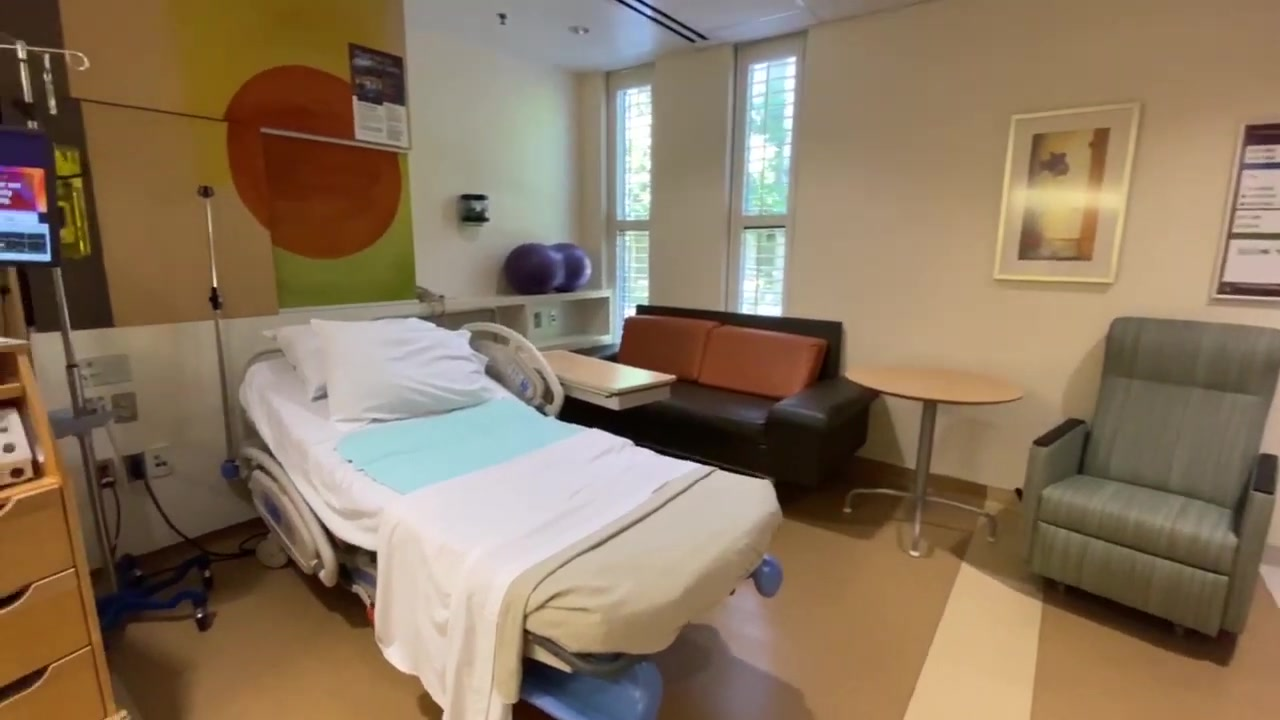bedrail: (231, 446, 340, 587), (447, 322, 565, 421)
bedside_monitor: (1, 159, 60, 268)
drawer: (1, 339, 142, 720)
hospital_bed: (232, 315, 789, 714)
iv_pole: (1, 40, 124, 610), (193, 183, 244, 481)
overbed_table: (516, 342, 679, 415)
sofa: (1011, 308, 1280, 640), (541, 304, 880, 497)
table: (843, 361, 1029, 564)
